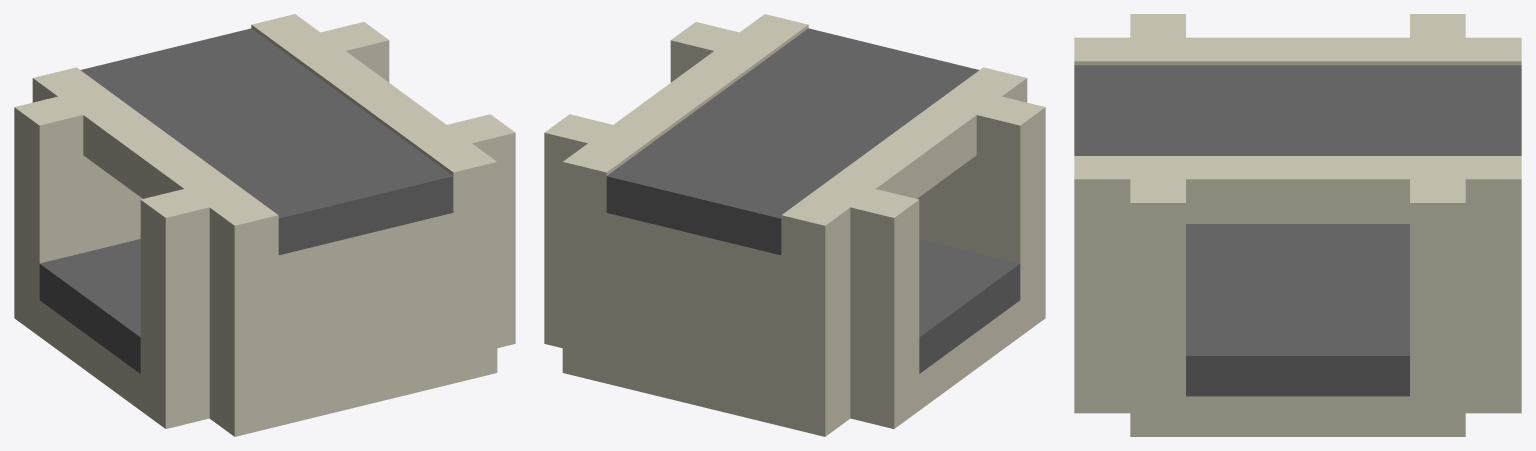
Rendered from tile229.fbx.
The picture shows the model from 3 angles, left to right: view 1: azimuth 30°, elevation 25°; view 2: azimuth 150°, elevation 25°; view 3: azimuth 270°, elevation 25°; orthographic projection. The views are drawn at different scales.
Parts seen in each view (by area): view 1: tile229; view 2: tile229; view 3: tile229.
Part boxes in pixels (<box>): tile229: <box>14,14,515,436</box>; tile229: <box>544,14,1045,436</box>; tile229: <box>1074,14,1521,436</box>.
Size of the model in its own units: 10 by 5.77 by 10.
